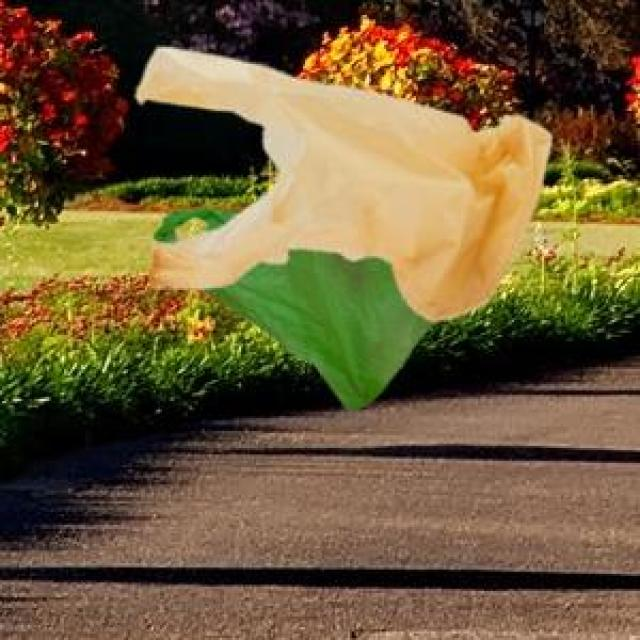plastic: (119, 19, 562, 427)
